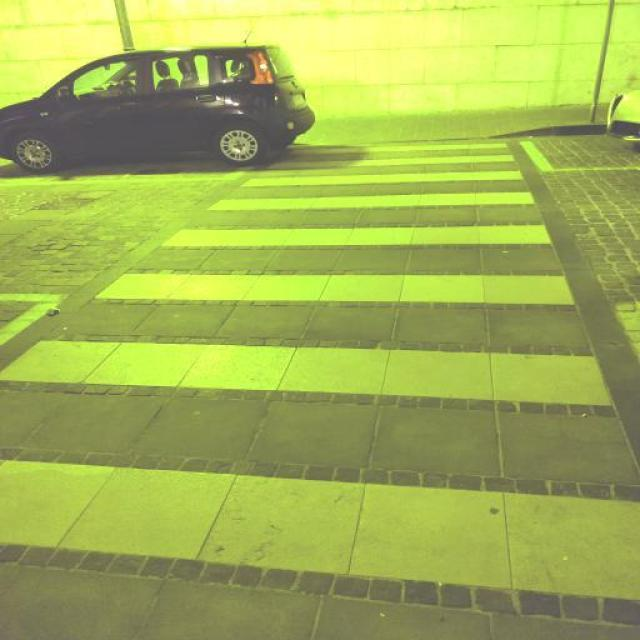crosswalk: (0, 137, 640, 632)
